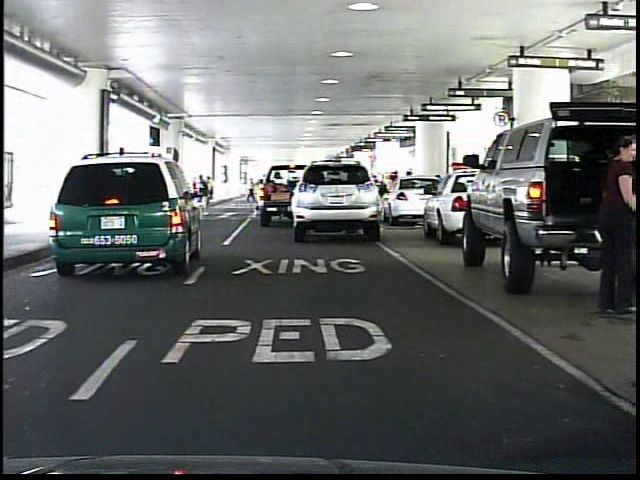person: (572, 133, 639, 318)
